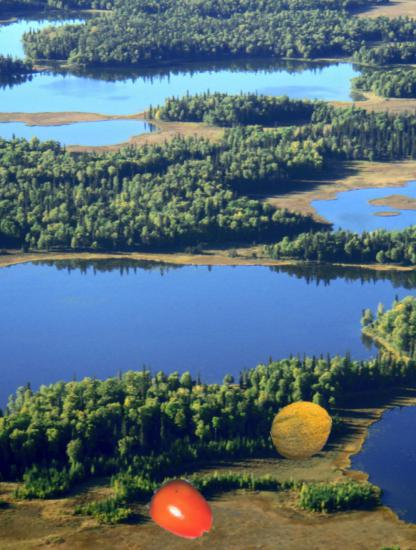Cantaloupe: (270, 398, 334, 462)
Kaki: (146, 473, 219, 546)
